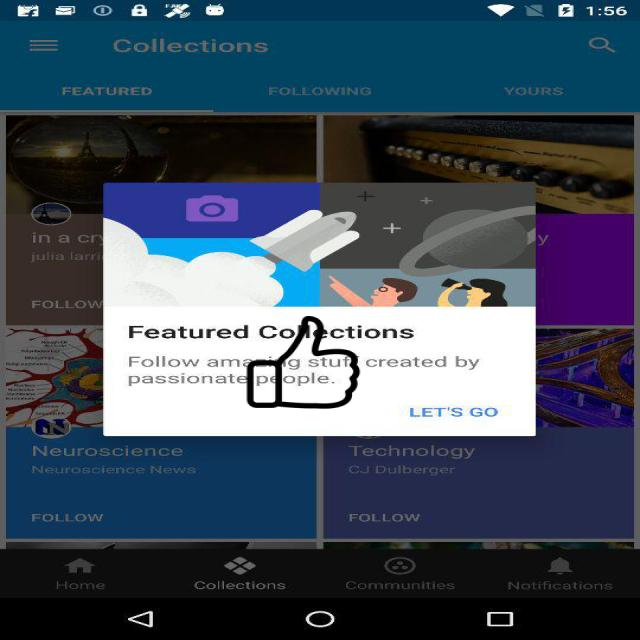privacy zuckering: (246, 316, 362, 409)
